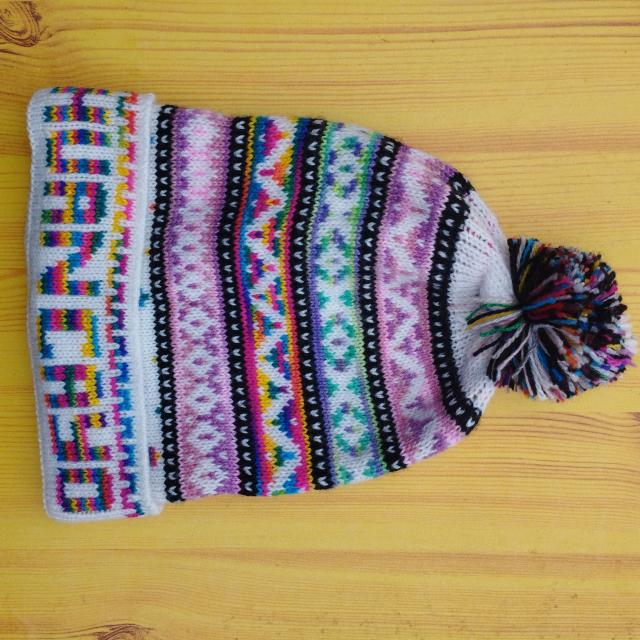Gorro: (24, 85, 635, 522)
